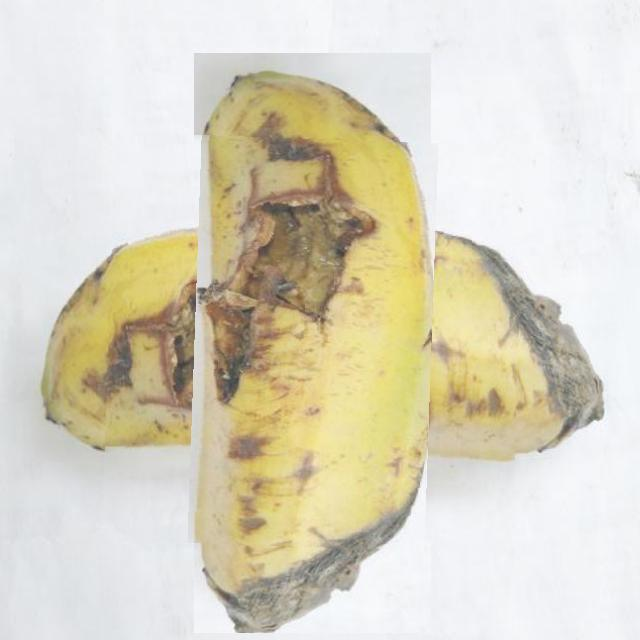Podre: (105, 135, 521, 550)
